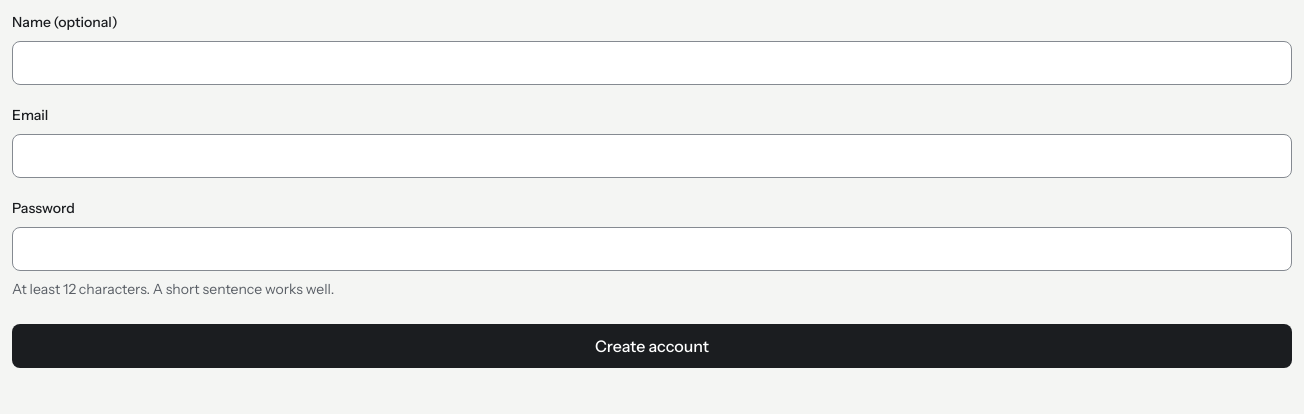
Test: puts a taken email's message under the email field
This screenshot has width=1304, height=414.
Type "sam@example.com" into the field labelled "Email" at (652, 156), box [12,134,1292,178]
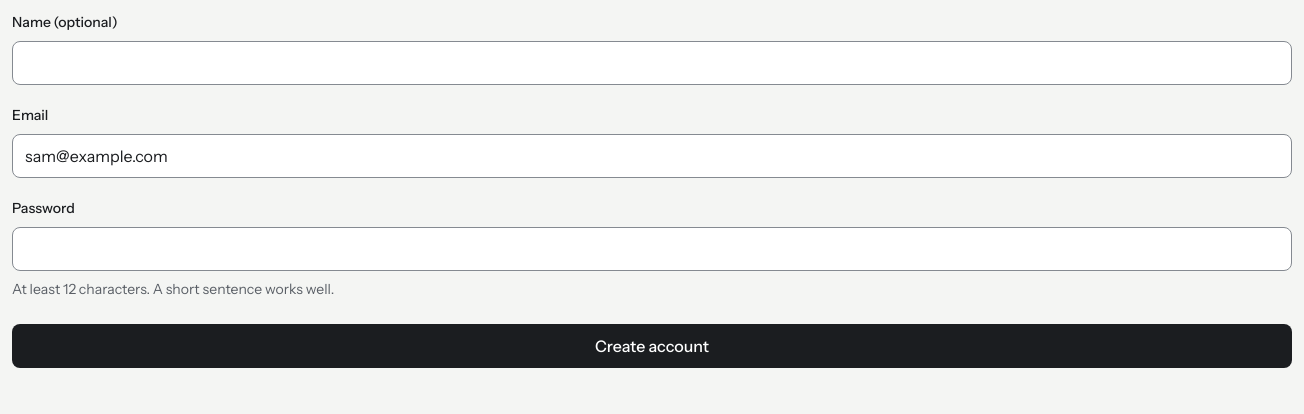
Type "correct horse battery staple" into the password field labelled "Password" at (652, 249), box [12,227,1292,271]
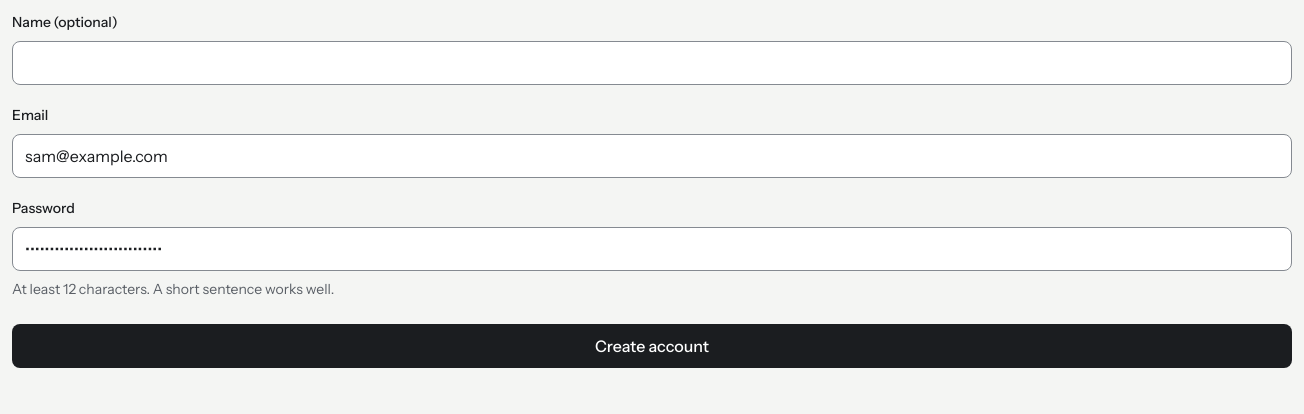
Click the button "Create account" at (652, 346), box [12,324,1292,368]
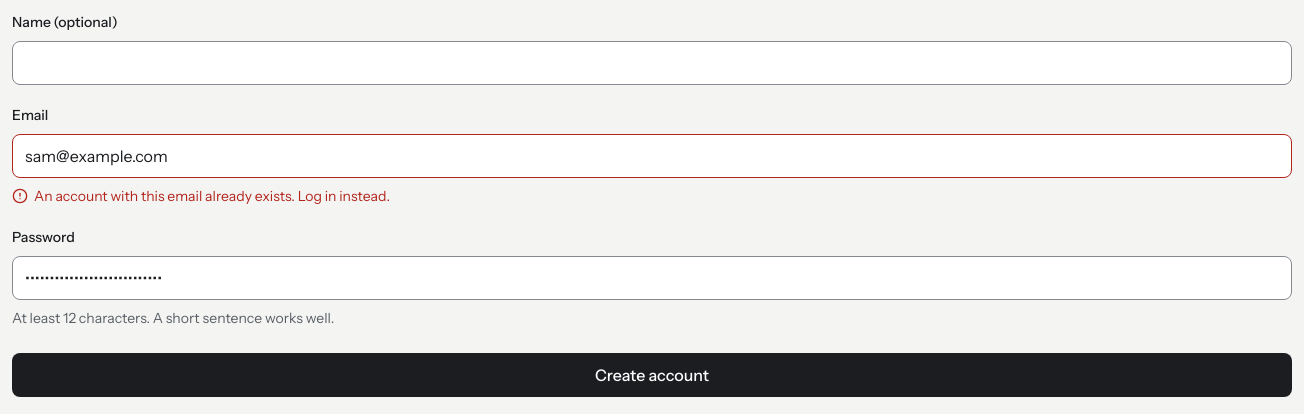
Result: the text "An account with this email already exists. Log in instead." is shown at [12,187,390,205]
